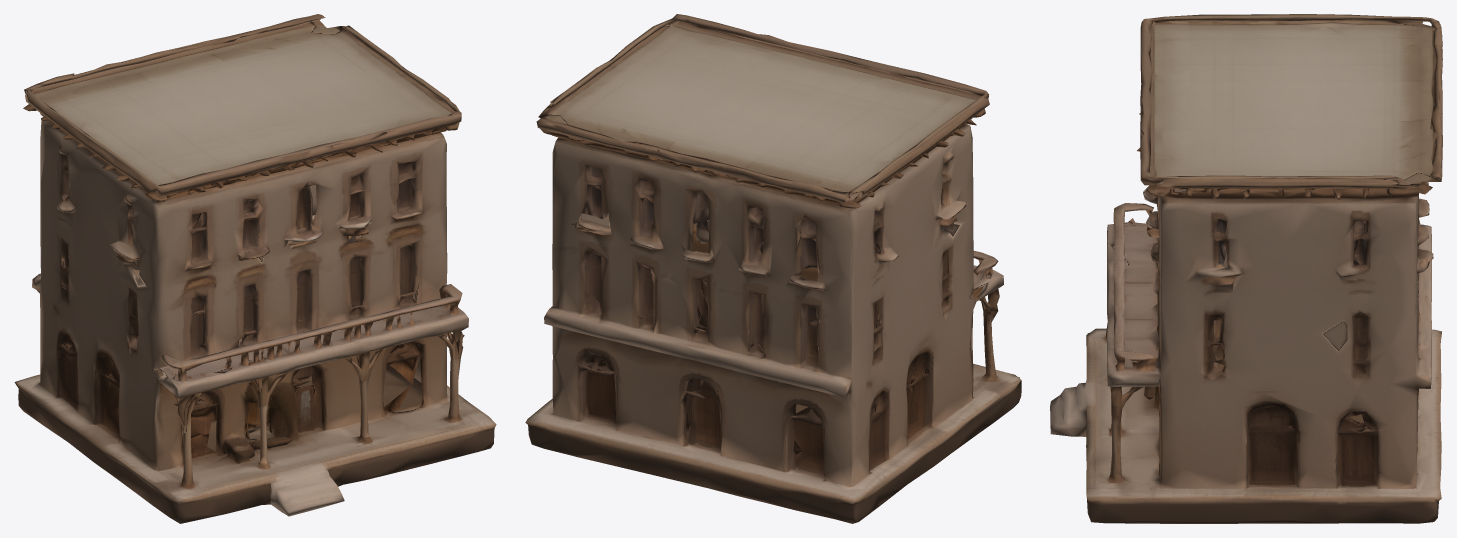
Rendered from sandinn.glb.
The picture shows the model from 3 angles, left to right: view 1: azimuth 30°, elevation 25°; view 2: azimuth 150°, elevation 25°; view 3: azimuth 270°, elevation 25°; orthographic projection. The views are drawn at different scales.
Visible parts, largest first — view 1: geometry_0; view 2: geometry_0; view 3: geometry_0.
Boxes of the visible parts, x1=… form: geometry_0: x1=14, y1=14, x2=496, y2=523; geometry_0: x1=525, y1=14, x2=1021, y2=523; geometry_0: x1=1050, y1=14, x2=1442, y2=523.
Bounding box in the file's own units: 0.9893 × 0.9399 × 0.9658.
Materials: 1 (1 with a texture image).
